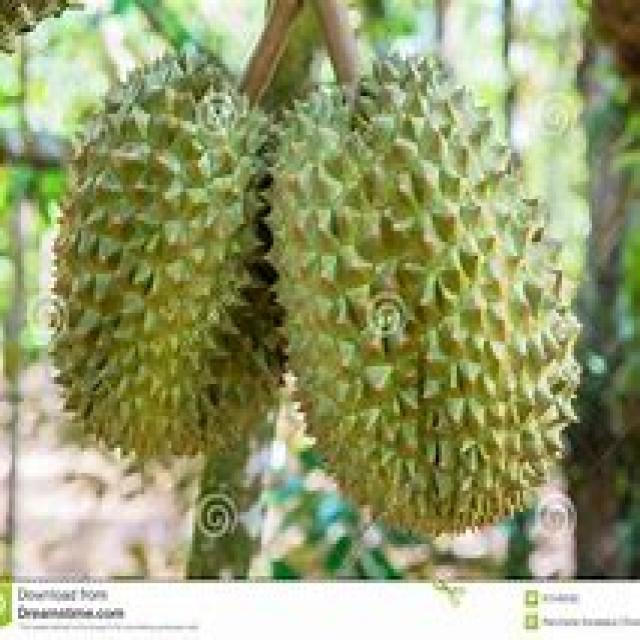immature: (261, 49, 583, 542), (50, 44, 288, 460)
